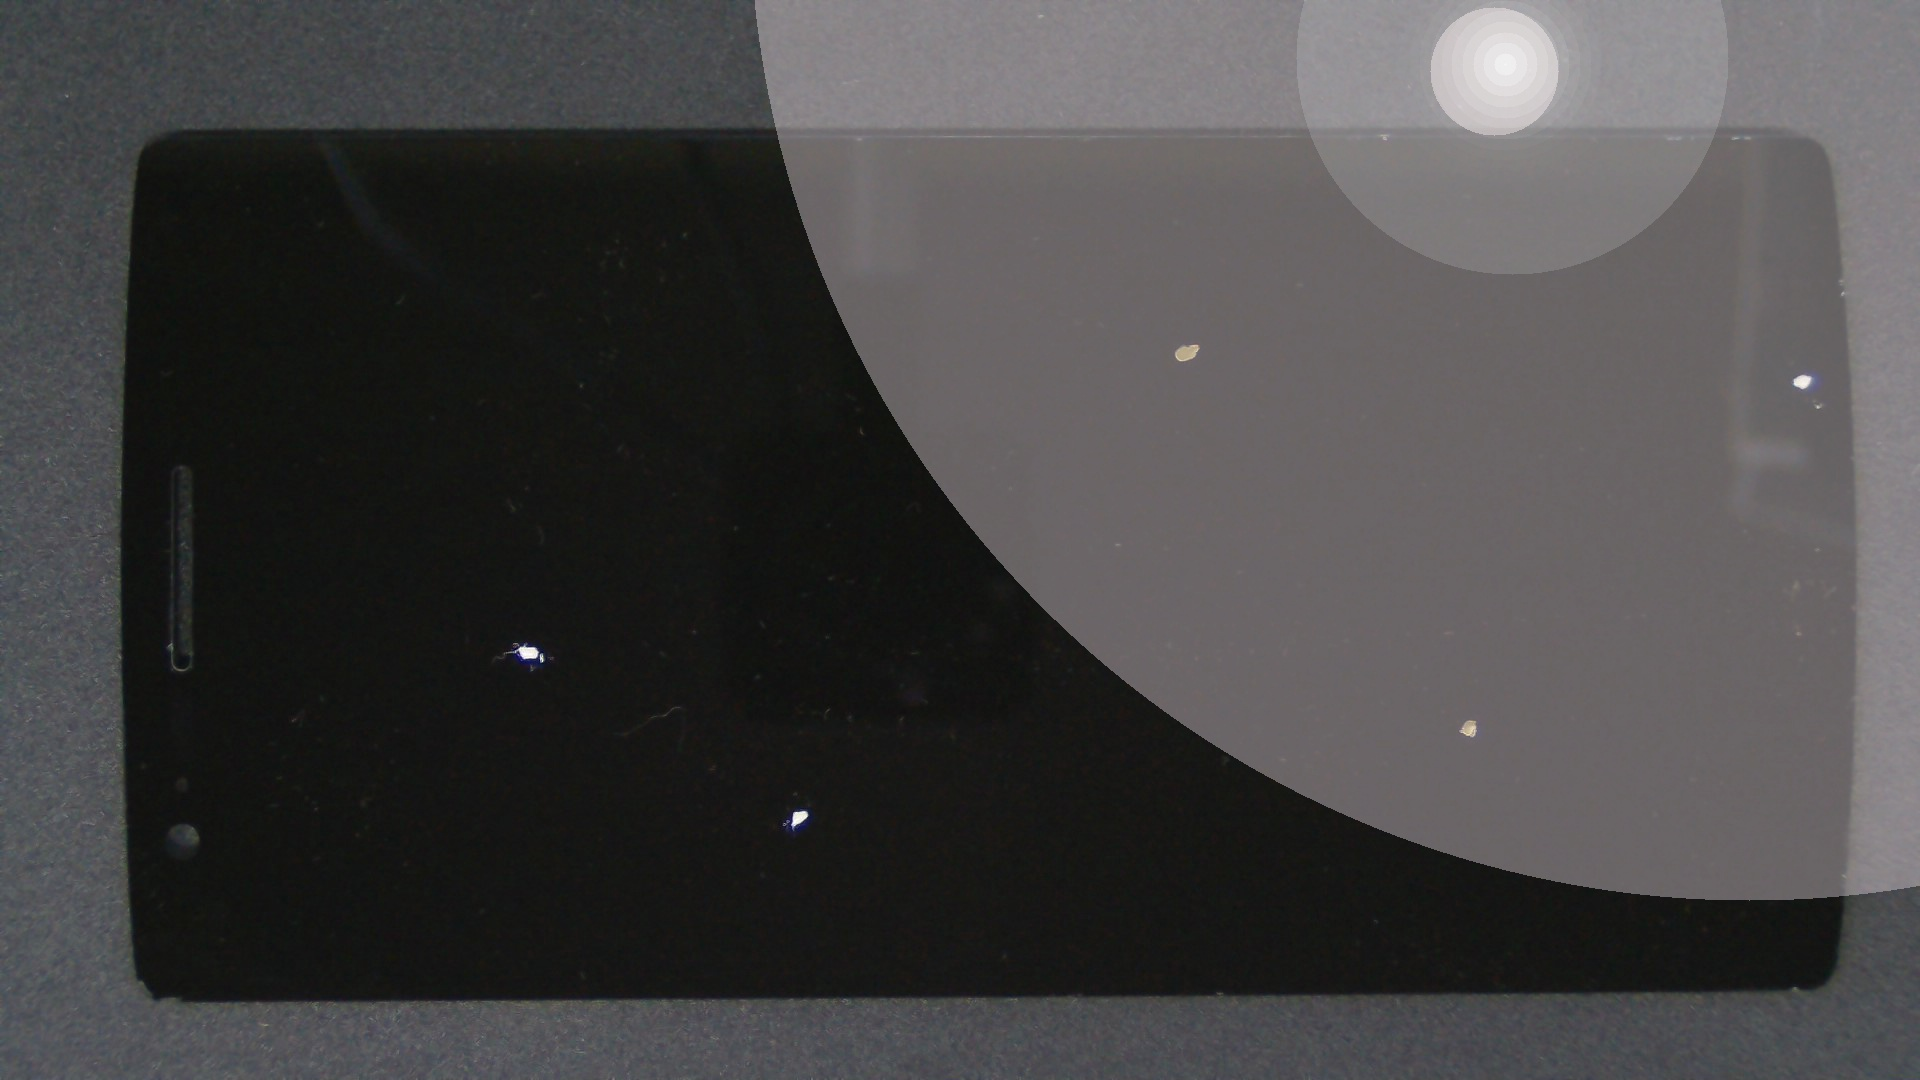oil: (738, 357, 1920, 1076), (405, 402, 1212, 1080), (595, 170, 1782, 514), (901, 185, 1920, 556), (257, 319, 770, 959)
